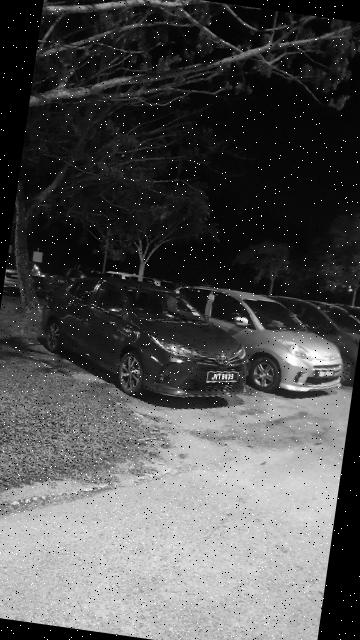License_Plate: (205, 368, 240, 387), (317, 368, 336, 380)
car: (29, 265, 266, 422), (162, 281, 355, 403)
